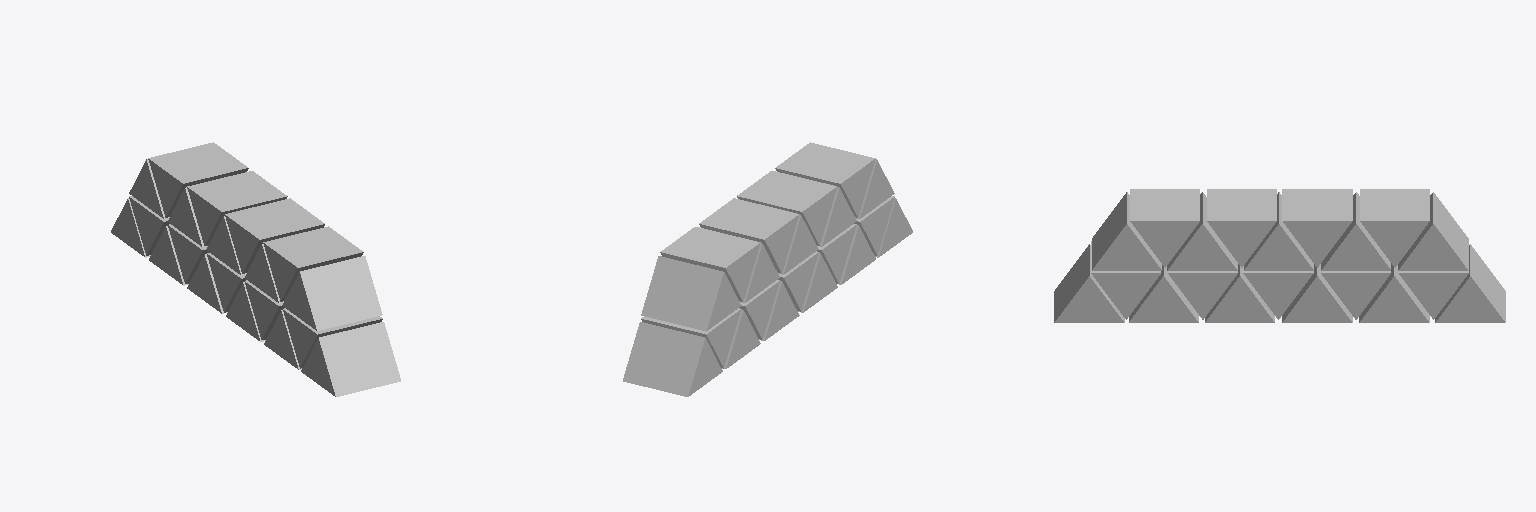
Rendered from WoodLogs.obj.
The picture shows the model from 3 angles: view 1: azimuth 30°, elevation 25°; view 2: azimuth 150°, elevation 25°; view 3: azimuth 270°, elevation 25°; orthographic projection.
Visible parts, largest first — view 1: WoodLog; view 2: WoodLog; view 3: WoodLog.
Part boxes in pixels (bbox=[...]): WoodLog: bbox=[111, 142, 400, 396]; WoodLog: bbox=[623, 142, 912, 396]; WoodLog: bbox=[1054, 189, 1505, 322].
Size of the model in its own units: 0.29 by 0.4291 by 1.73.